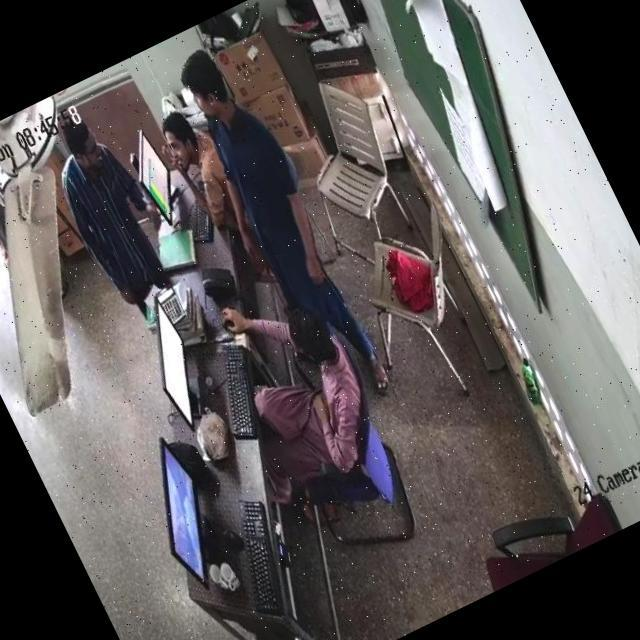person: (170, 35, 392, 400), (228, 296, 402, 494), (33, 103, 172, 300), (150, 93, 252, 232)
